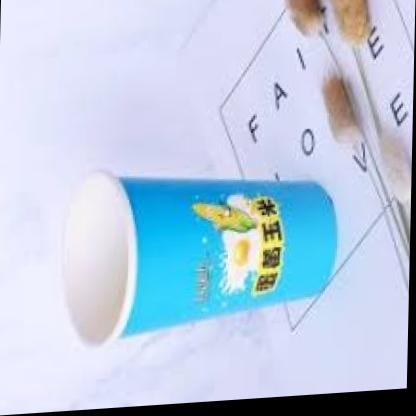trash: (65, 174, 336, 342)
